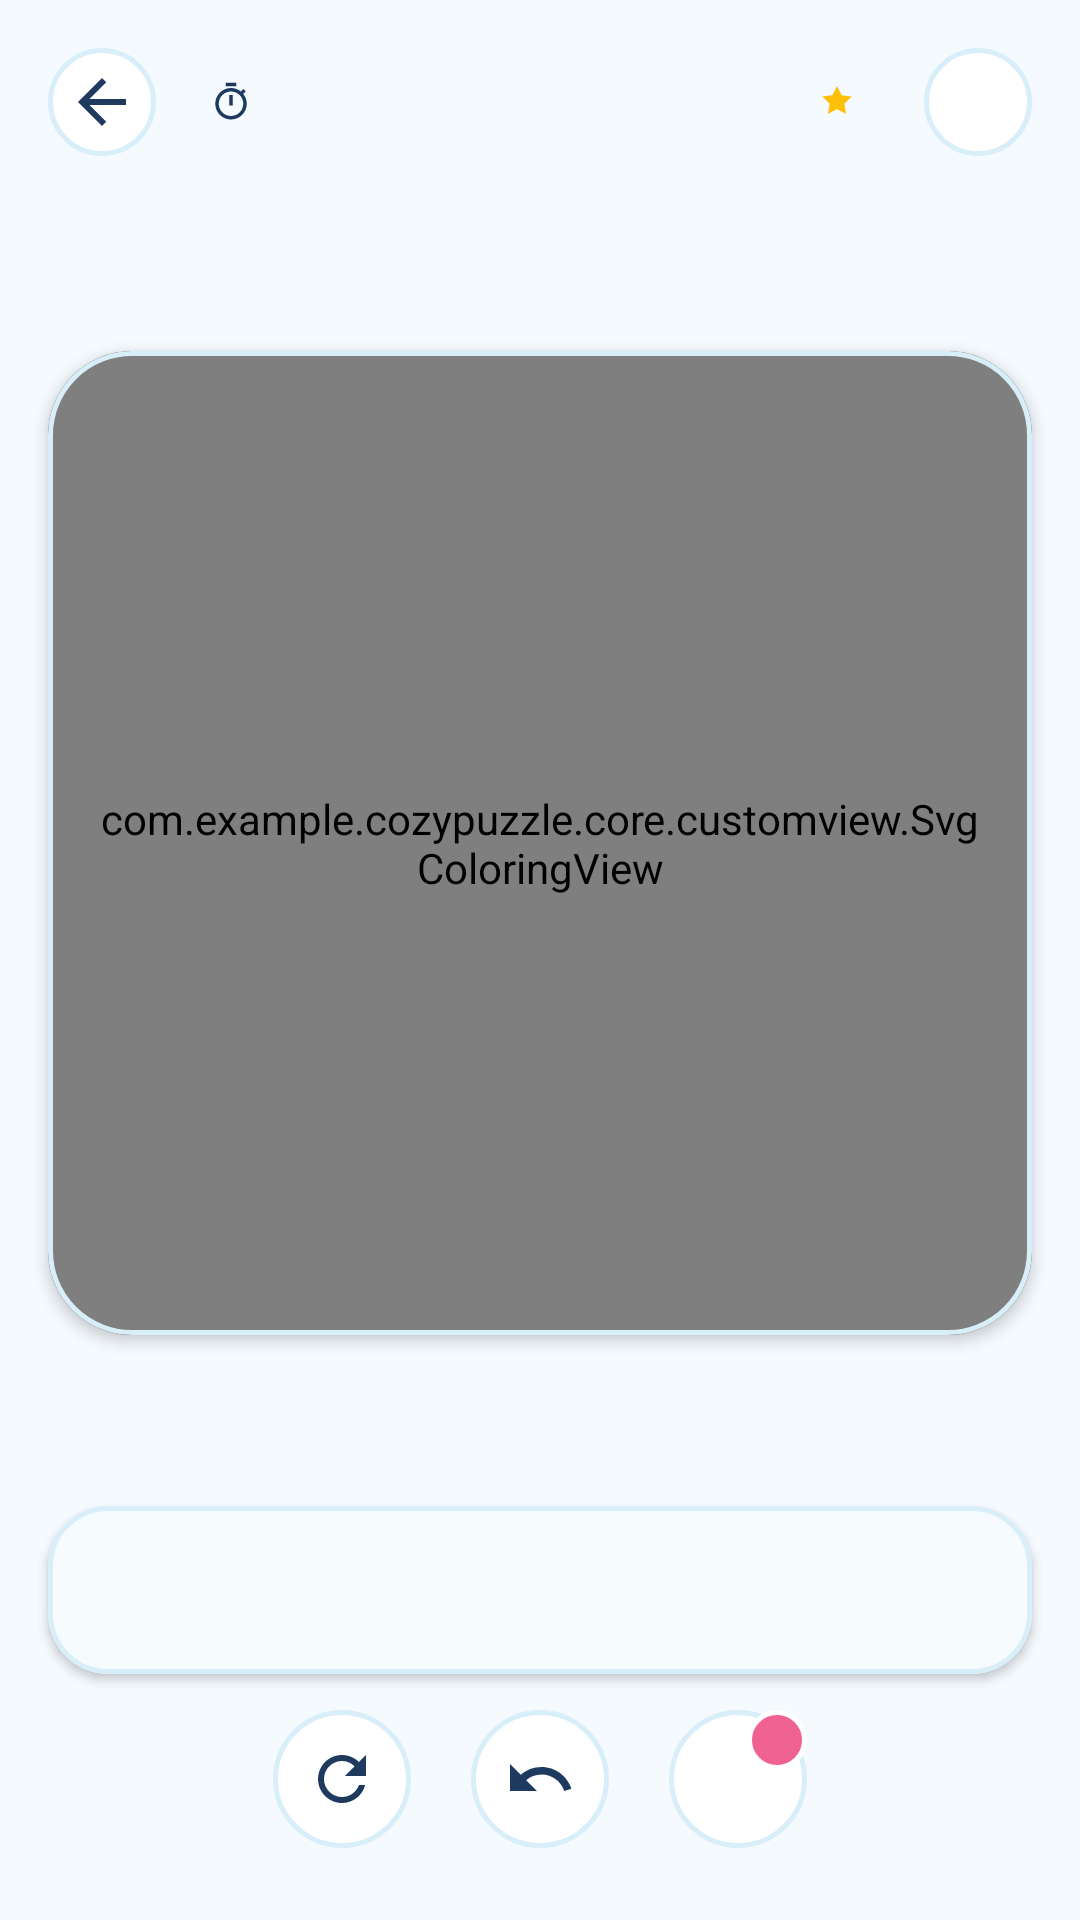

Named icons in this screenshot (1080×1920) and their centers, [x,y]:
Back: [102,102]
reset: [342,1779]
star: [837,100]
timer: [231,101]
undo: [540,1779]
